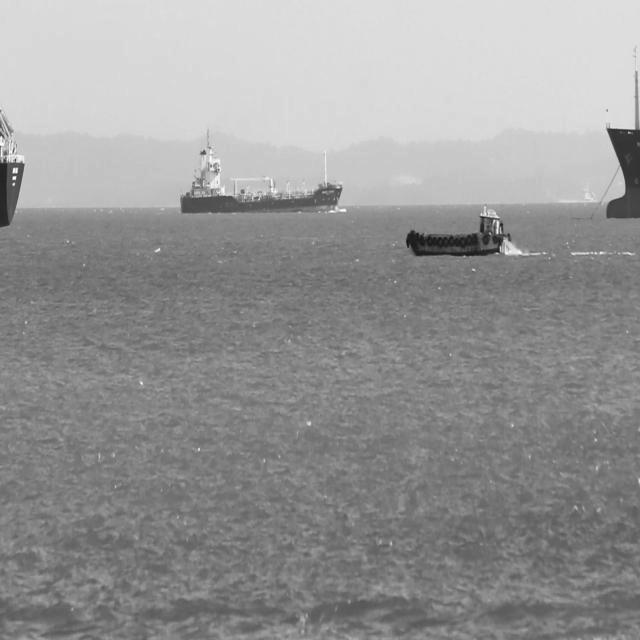ship: (179, 124, 343, 216), (406, 203, 514, 257), (606, 44, 639, 219), (0, 103, 25, 227)
